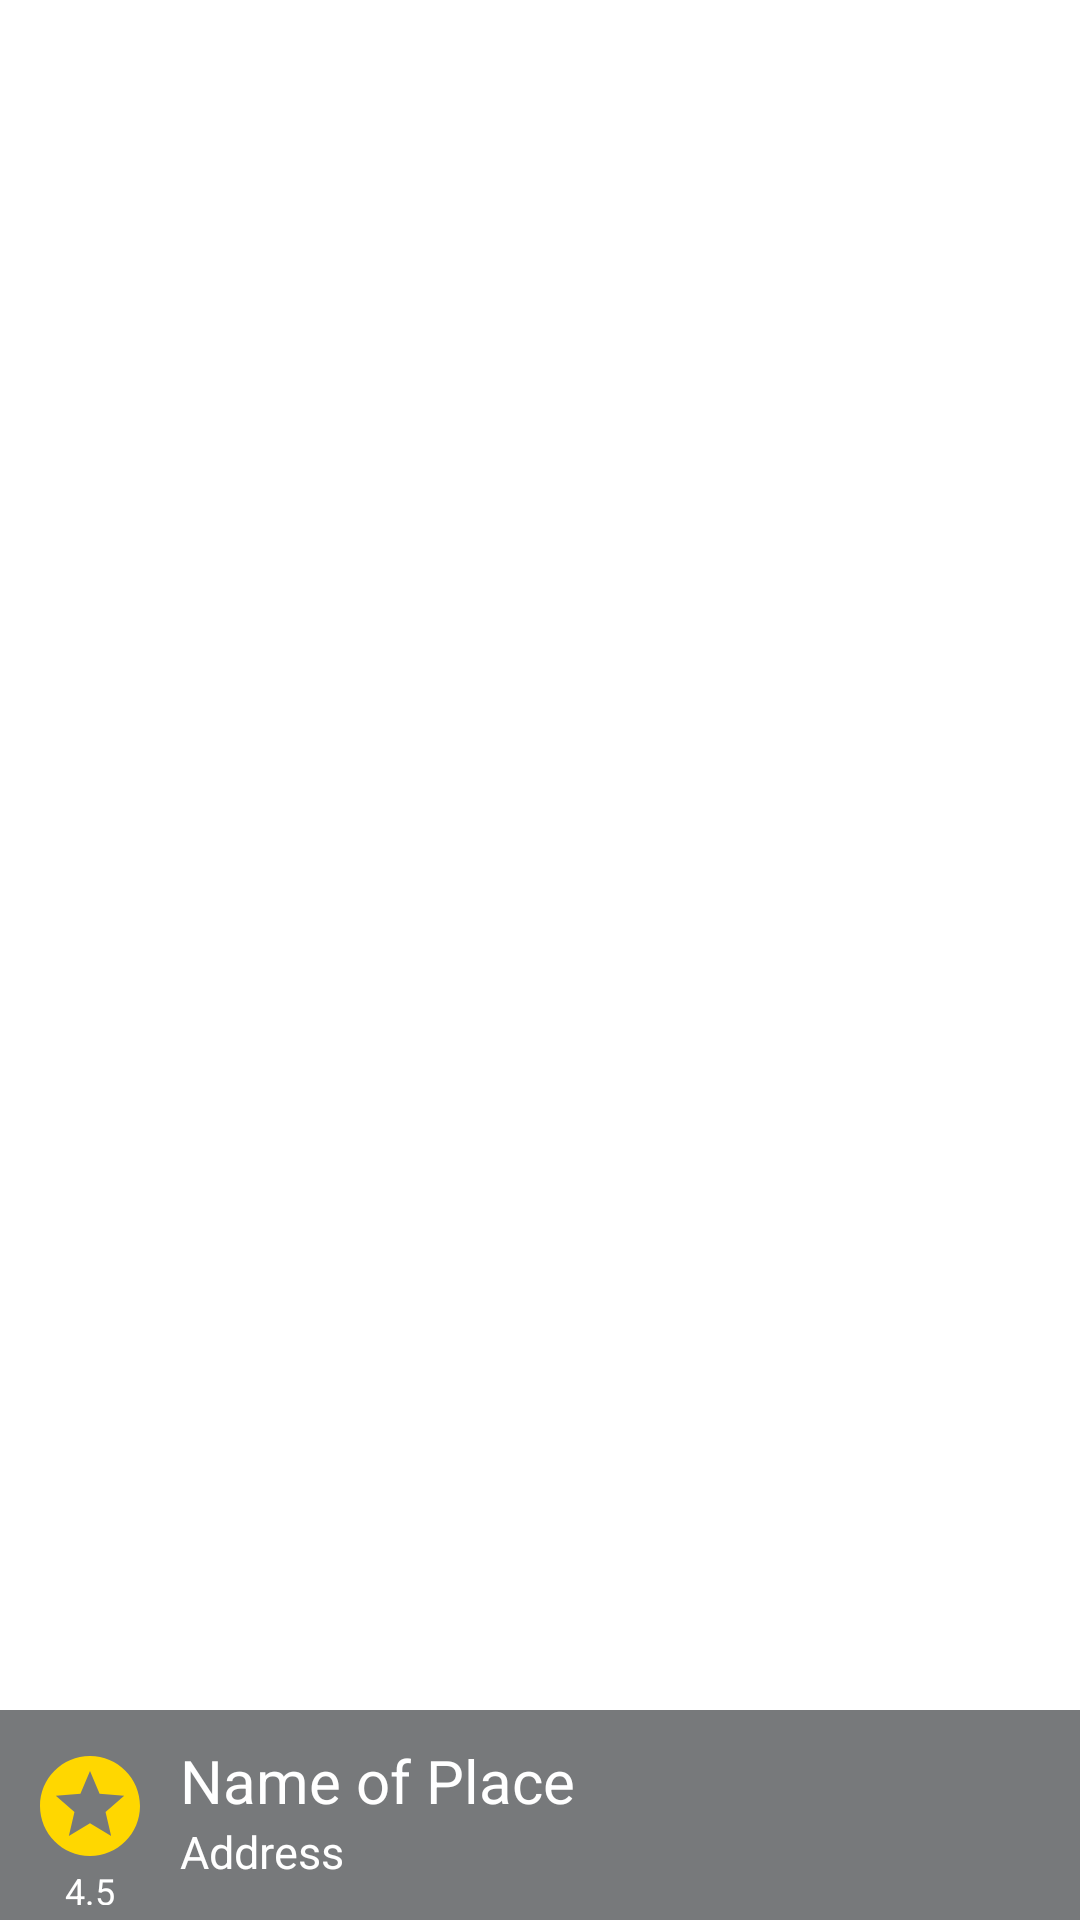

Icon bounding boxes for this 1080*1920 phone screenshot, format [x1=x1, y1=y1, x2=x2, y2=y2]:
stars gold: [x1=40, y1=1756, x2=140, y2=1856]
